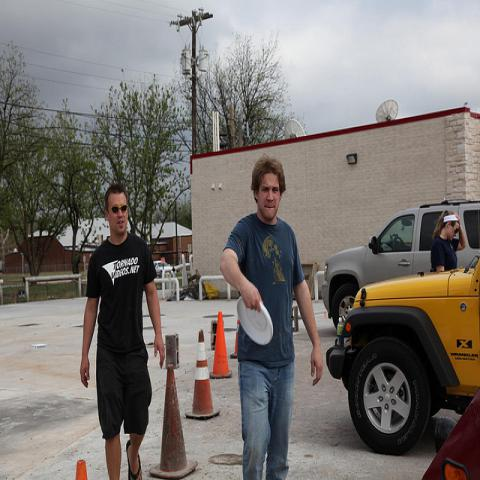car: (322, 203, 478, 327), (422, 386, 480, 479), (154, 261, 163, 278)
truck: (325, 239, 479, 456)
